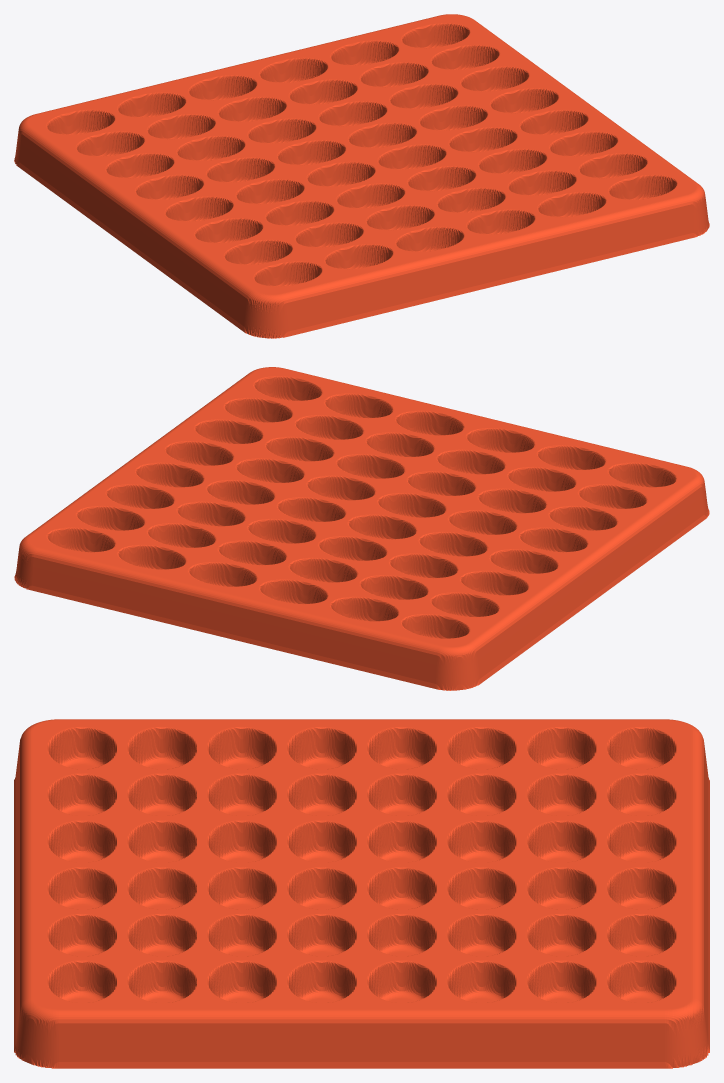
Rendered from mold.glb.
The picture shows the model from 3 angles, top to bottom: view 1: azimuth 30°, elevation 25°; view 2: azimuth 150°, elevation 25°; view 3: azimuth 270°, elevation 25°; orthographic projection. The views are drawn at different scales.
Visible parts, largest first — view 1: geometry_0; view 2: geometry_0; view 3: geometry_0.
Boxes of the visible parts, box(x1,y1,x2,y2) form: geometry_0: box(14, 14, 709, 338); geometry_0: box(14, 367, 709, 690); geometry_0: box(14, 719, 709, 1068).
Bounding box in the file's own units: 0.1443 × 0.0114 × 0.1394.
